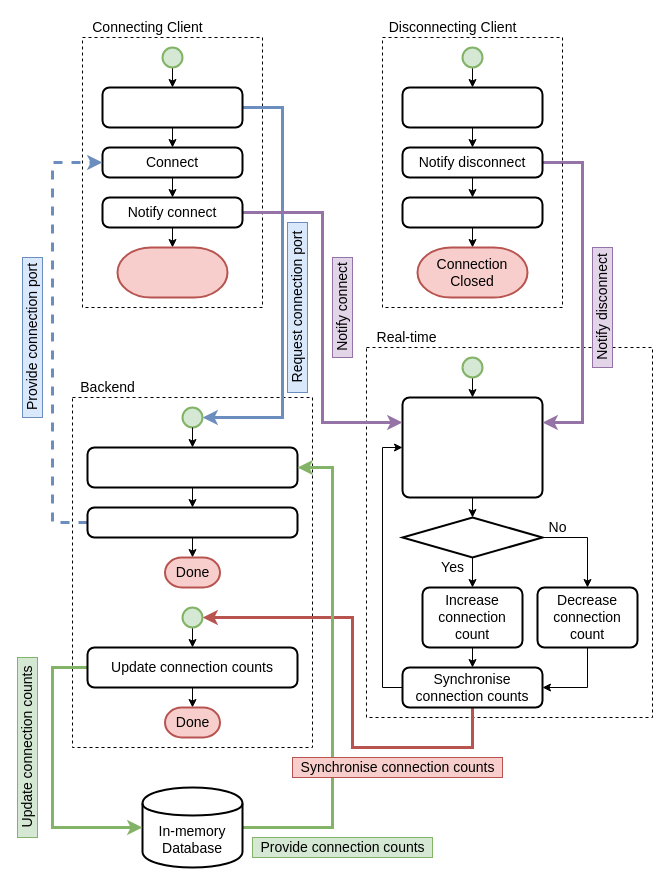
The diagram is 670 pixels wide and 885 high, and some of its shapes have lost their labels. Here are the shapes that lost their labels. From the top down, the centre of each, then its label:
point (172, 107): Request a connection port
point (472, 107): Client termination event detected
point (472, 212): Disconnect
point (172, 272): Connection Established
point (192, 467): Find the port with the least active connections
point (472, 447): Listening for connection events
point (192, 522): Return port
point (472, 537): is connect?
